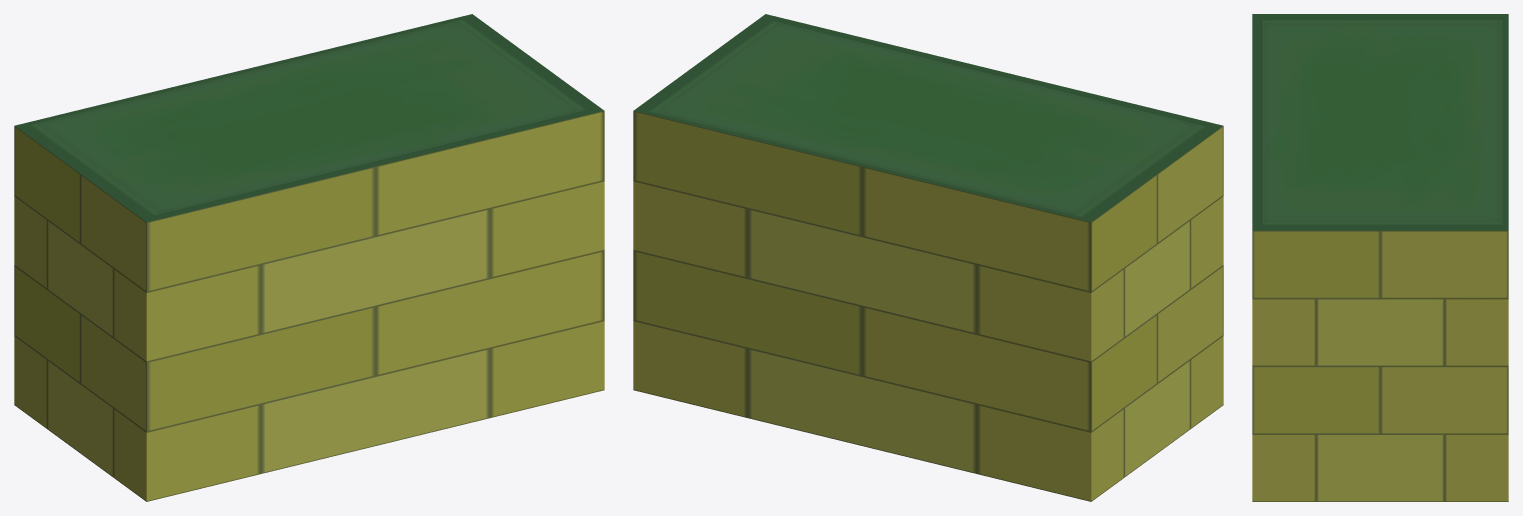
Rendered from WallBlock 73.fbx.
3 renders of one model, left to right at view 1: azimuth 30°, elevation 25°; view 2: azimuth 150°, elevation 25°; view 3: azimuth 270°, elevation 25°, orthographic. The views are drawn at different scales.
Parts seen in each view (by area): view 1: WallBlock 73; view 2: WallBlock 73; view 3: WallBlock 73.
Part boxes in pixels (box(x1,y1,x2,y2)): WallBlock 73: box(14, 14, 604, 501); WallBlock 73: box(633, 14, 1223, 501); WallBlock 73: box(1252, 14, 1508, 501).
Bounding box in the file's own units: 1.2 × 0.7 × 0.6.
